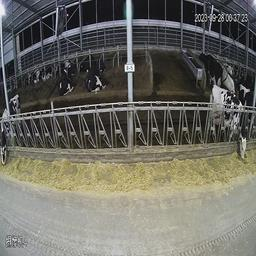cow: (211, 83, 247, 161), (0, 95, 25, 166), (197, 51, 222, 95), (85, 60, 106, 94), (57, 65, 76, 97), (222, 63, 235, 97), (78, 55, 95, 74), (28, 68, 46, 84)
